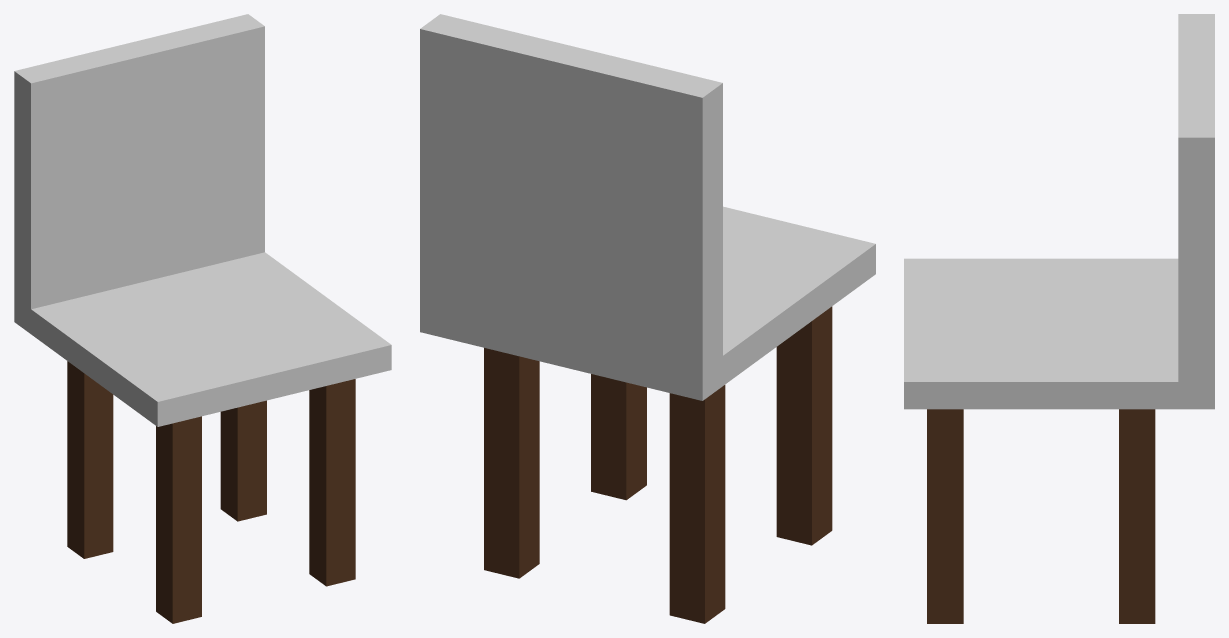
The model's file is silla.glb.
The picture shows the model from 3 angles, left to right: view 1: azimuth 30°, elevation 25°; view 2: azimuth 150°, elevation 25°; view 3: azimuth 270°, elevation 25°; orthographic projection. The views are drawn at different scales.
Parts seen in each view (by area): view 1: silla; view 2: silla; view 3: silla.
Boxes of the visible parts, x1,y1,x2,y2 form: silla: [14, 14, 391, 623]; silla: [420, 14, 875, 623]; silla: [904, 14, 1214, 623].
Bounding box in the file's own units: 0.4877 × 0.92 × 0.5182.
